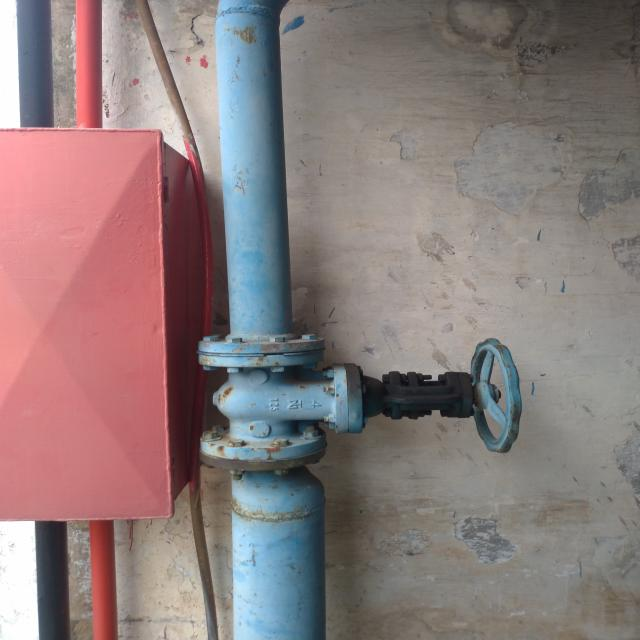gas: (223, 2, 320, 640), (17, 0, 55, 129), (36, 520, 69, 639), (76, 1, 103, 125), (92, 521, 120, 638)
